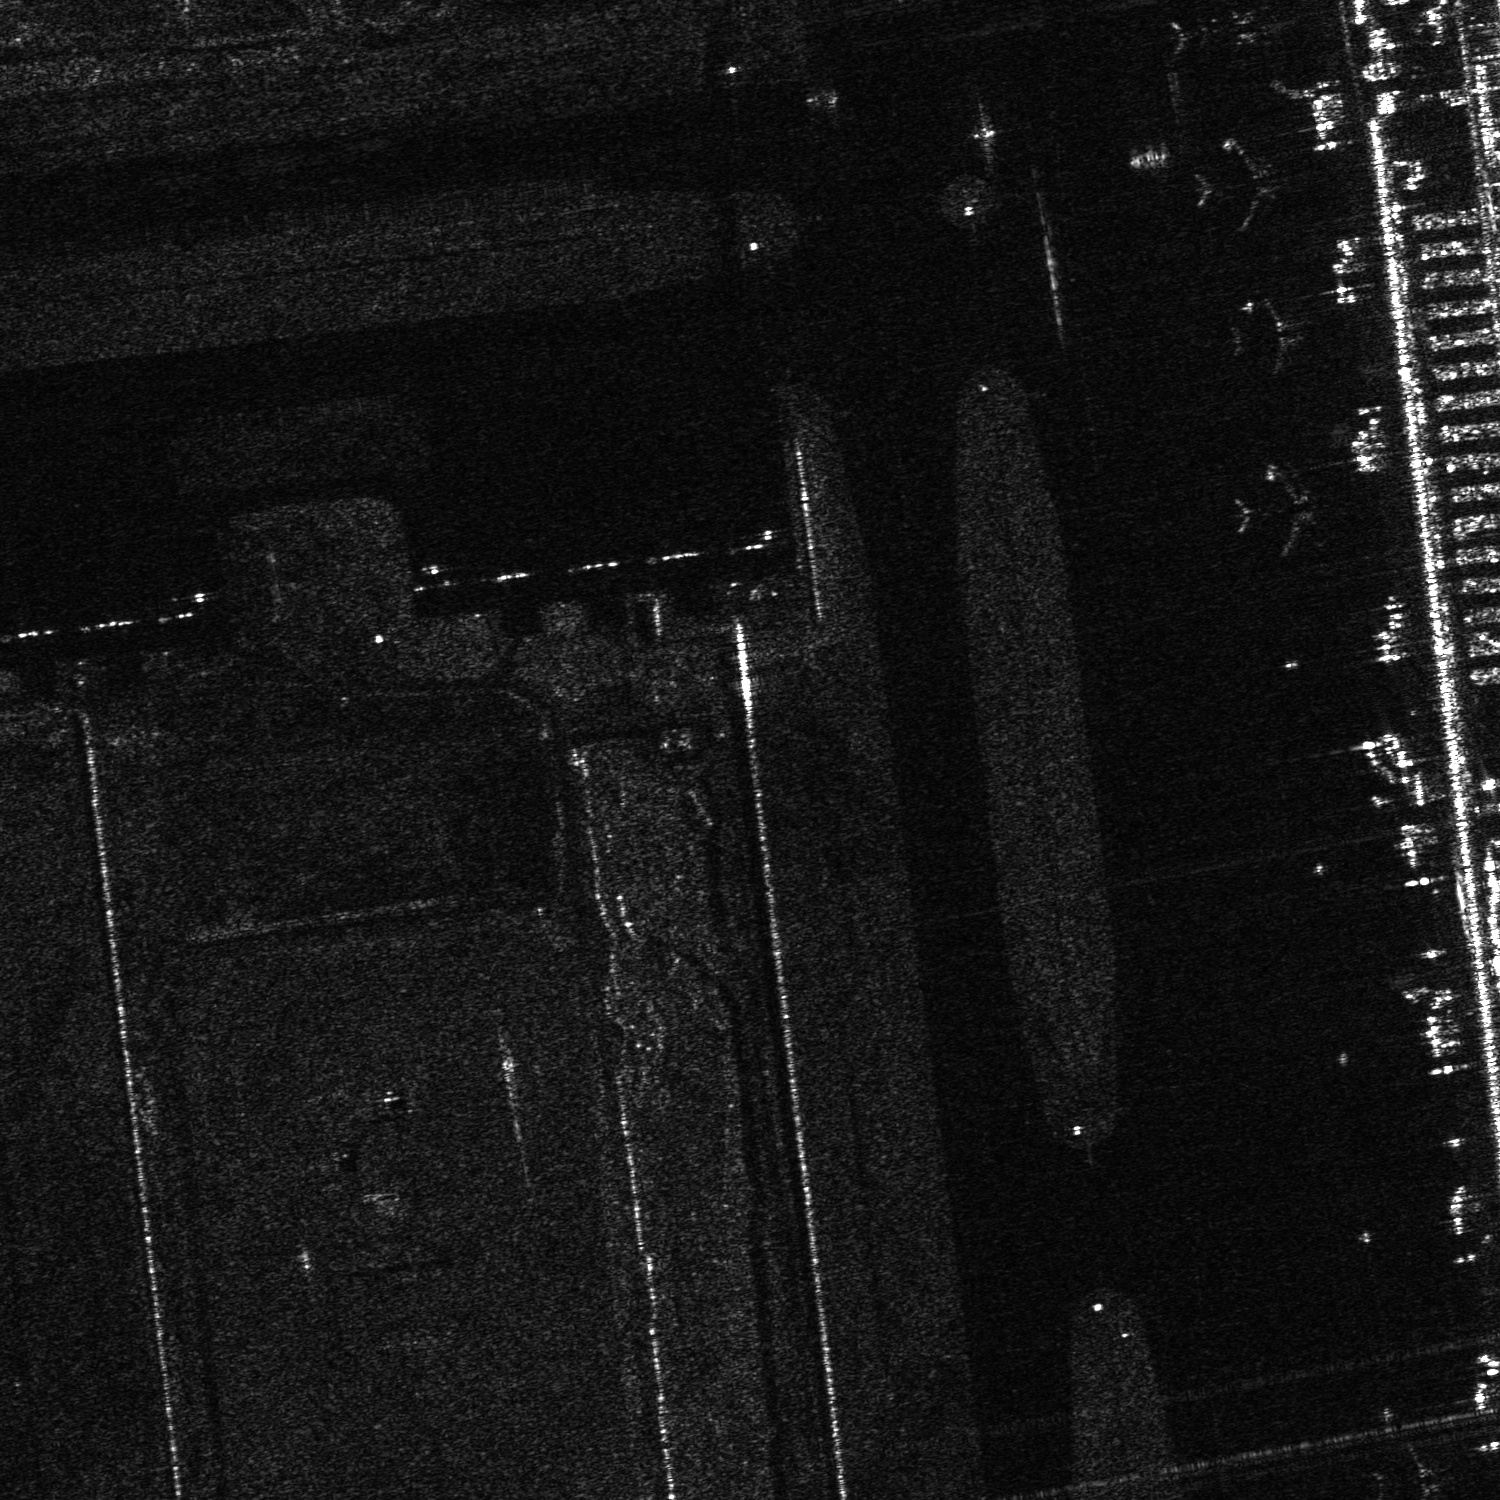Boeing787: (1194, 137, 1299, 231), (1235, 464, 1323, 548), (1228, 297, 1313, 380), (1365, 1440, 1453, 1499)
